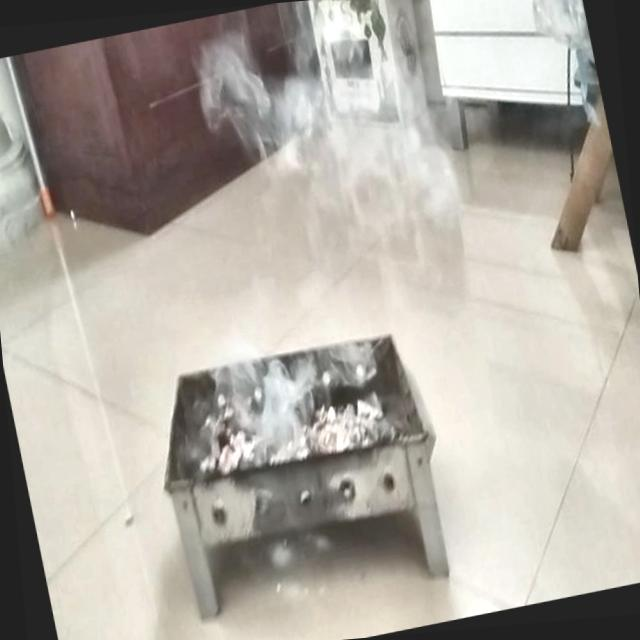smoke: (254, 73, 428, 310)
